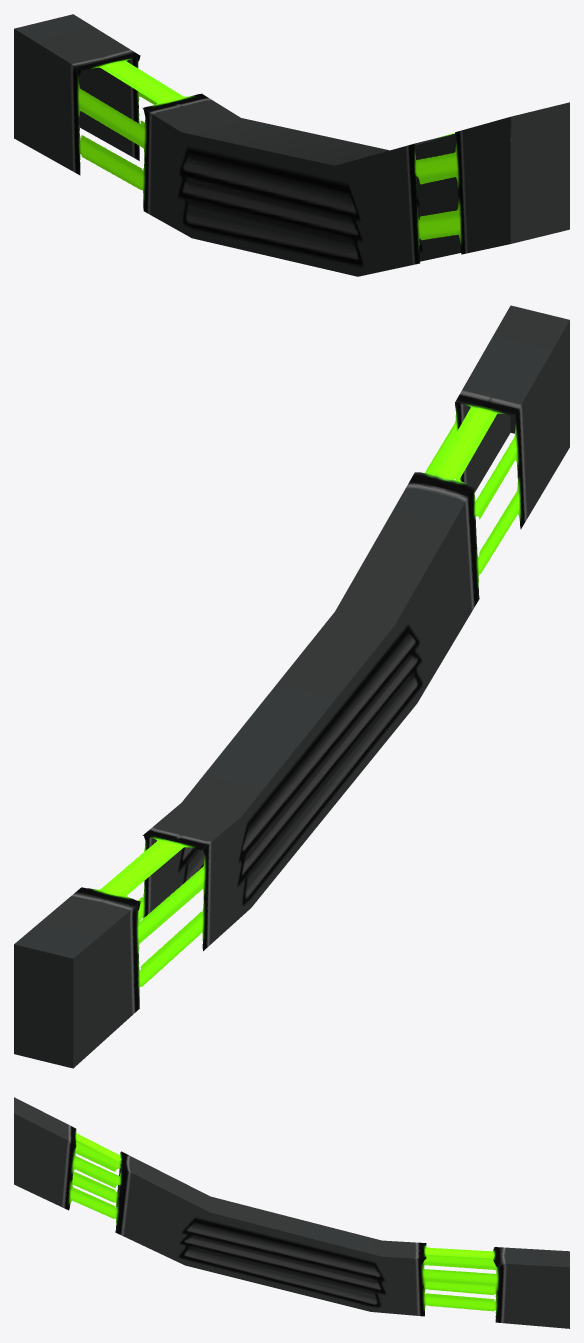
The model's file is urban_RAMPborder.glb.
The picture shows the model from 3 angles, top to bottom: view 1: azimuth 30°, elevation 25°; view 2: azimuth 150°, elevation 25°; view 3: azimuth 270°, elevation 25°; orthographic projection. The views are drawn at different scales.
Parts seen in each view (by area): view 1: basic_ramp__border_glb_Cube.042; view 2: basic_ramp__border_glb_Cube.042; view 3: basic_ramp__border_glb_Cube.042.
Part boxes in pixels (box(x1,y1,x2,y2)): basic_ramp__border_glb_Cube.042: box(14, 14, 569, 276); basic_ramp__border_glb_Cube.042: box(14, 305, 569, 1068); basic_ramp__border_glb_Cube.042: box(14, 1097, 569, 1328).
Size of the model in its own units: 0.2771 by 1.72 by 4.02.
2 materials, 2 textured.
